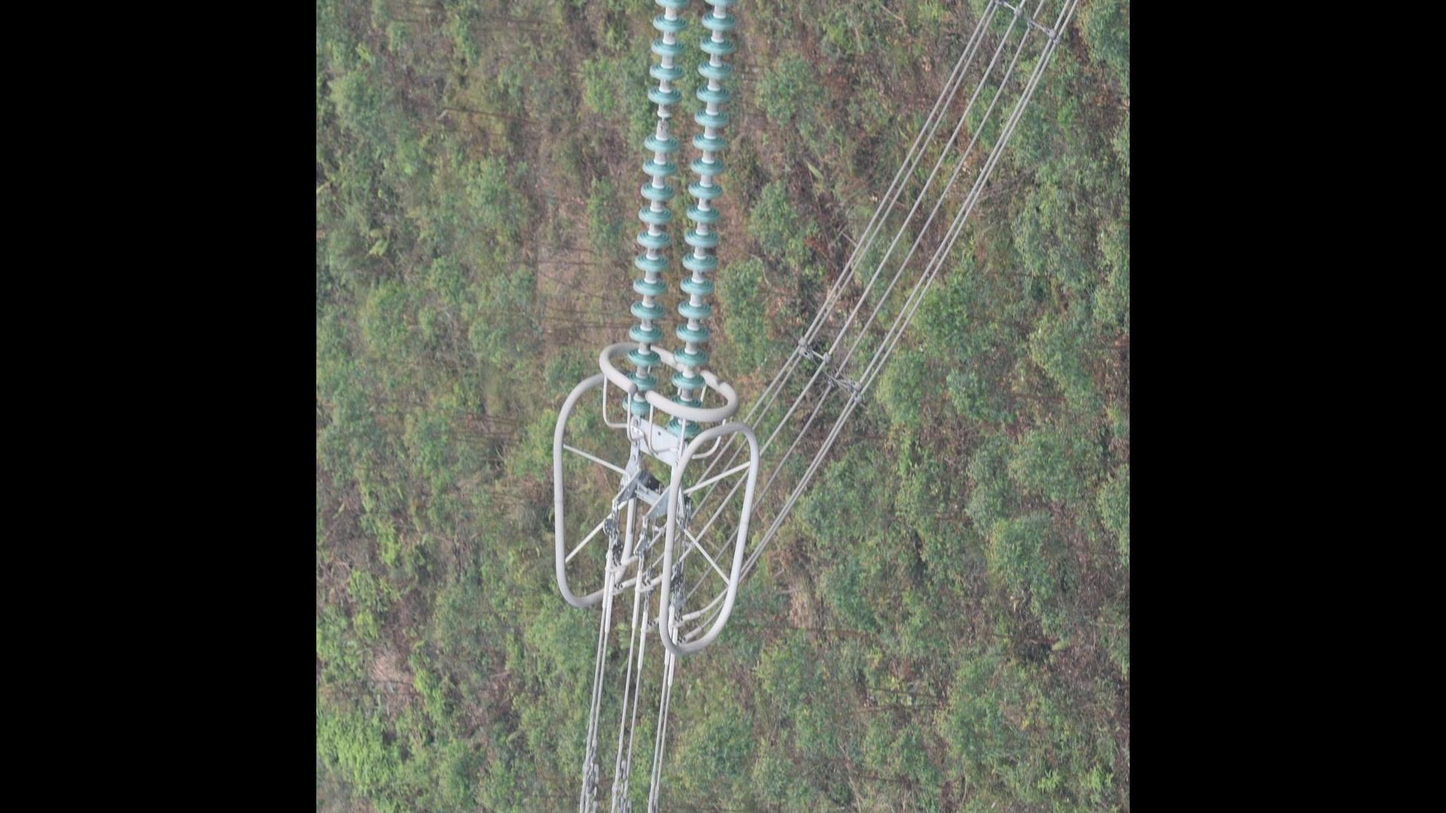insulator: (666, 1, 742, 444), (616, 1, 694, 422)
insulator_stringdrop: (641, 84, 685, 160)
